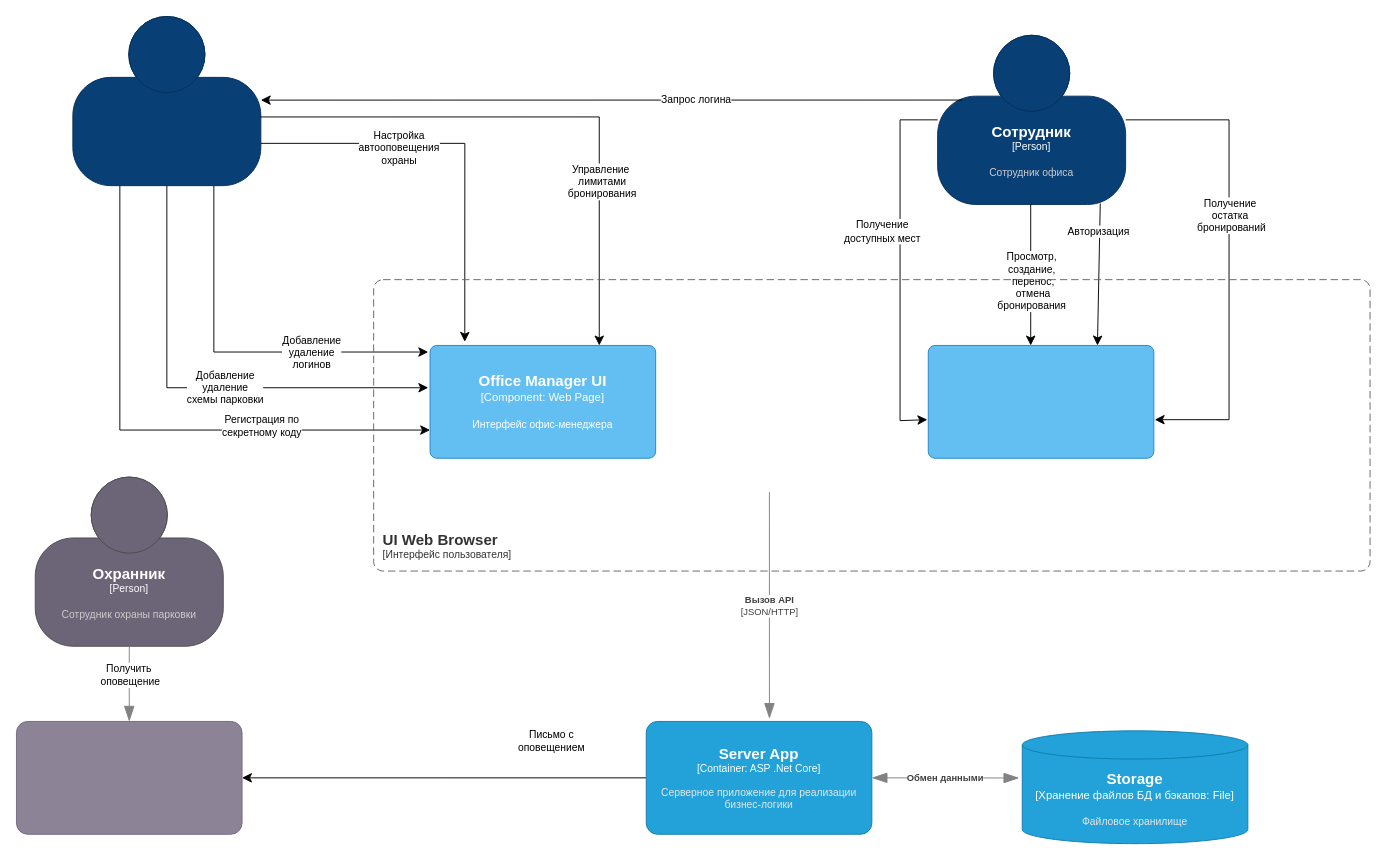
The diagram is 1387 pixels wide and 860 high, and some of its shapes have lost their labels. Each missing label, with the centre of its shape:
"Employee UI [Component: Web Page] Интерфейс сотрудника" goes at (1040,401).
"Офис-менеджер [Person]" goes at (166,101).
"Электронная почта [Software System] Сервис электронной почты" goes at (129,777).
